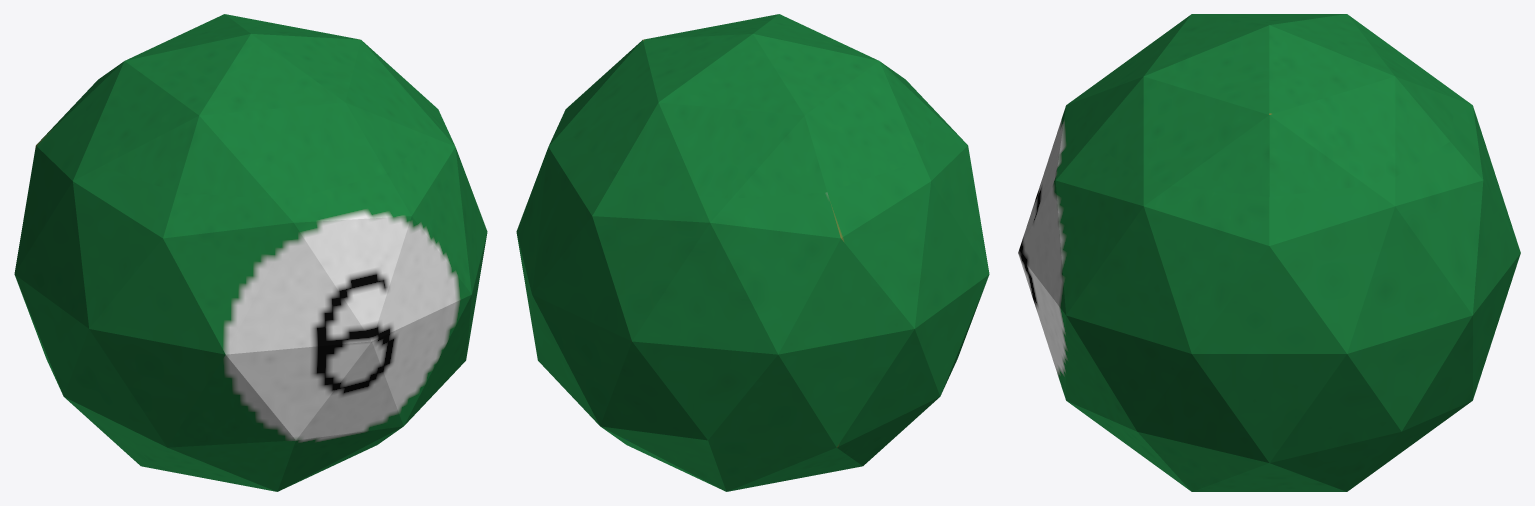
Rendered from pool_ball_6.obj.
The picture shows the model from 3 angles, left to right: view 1: azimuth 30°, elevation 25°; view 2: azimuth 150°, elevation 25°; view 3: azimuth 270°, elevation 25°; orthographic projection. The views are drawn at different scales.
Parts seen in each view (by area): view 1: PoolBall_06; view 2: PoolBall_06; view 3: PoolBall_06.
Boxes of the visible parts, x1,y1,x2,y2 form: PoolBall_06: (14,14,487,491); PoolBall_06: (516,14,989,491); PoolBall_06: (1018,14,1520,491).
Bounding box in the file's own units: 0.0709 × 0.0745 × 0.0745.
Materials: 1 (1 with a texture image).
